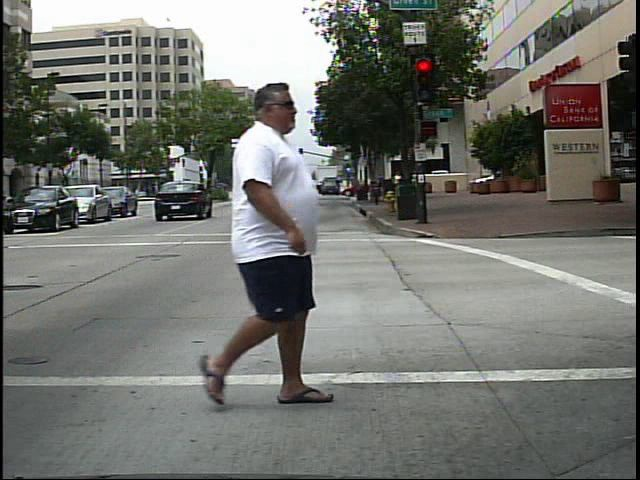person: (182, 77, 331, 413)
